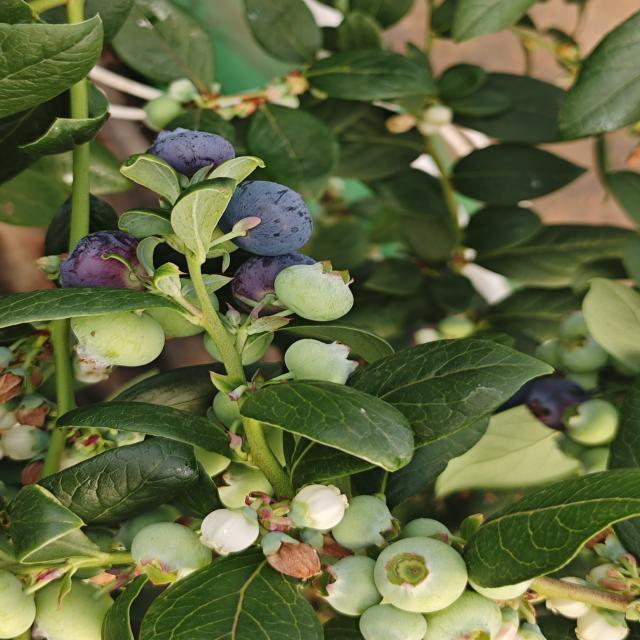ripe: (216, 179, 316, 259), (55, 225, 168, 295), (222, 250, 323, 316), (496, 366, 596, 432), (143, 126, 238, 179)
